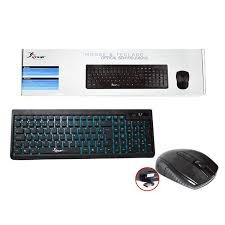keyboard: (9, 106, 154, 157)
mouse: (156, 148, 218, 194)
